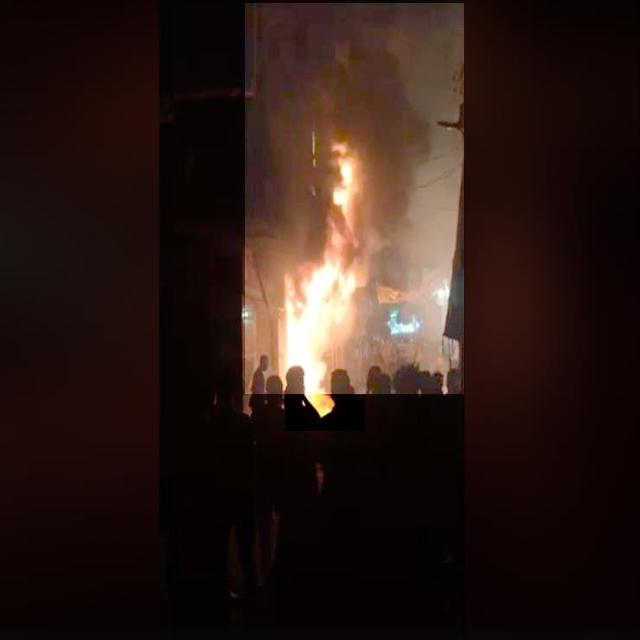Fire: (286, 136, 366, 431)
Smoke: (245, 3, 464, 394)
